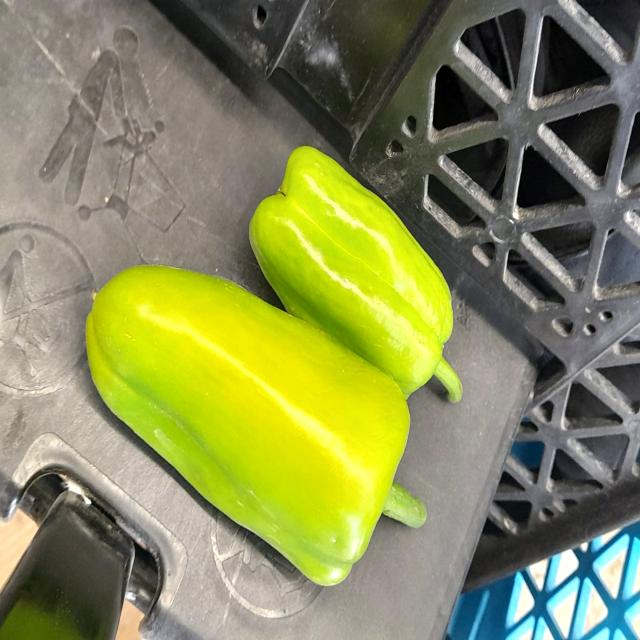bell pepper: (81, 250, 429, 591), (238, 131, 471, 402)
